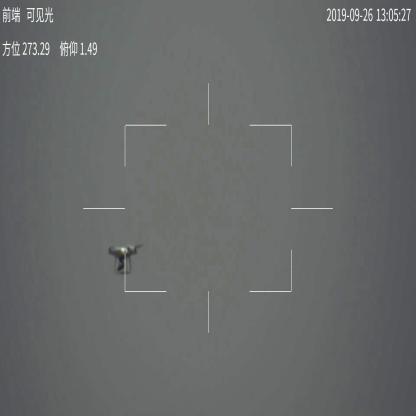uav: (108, 241, 146, 276)
